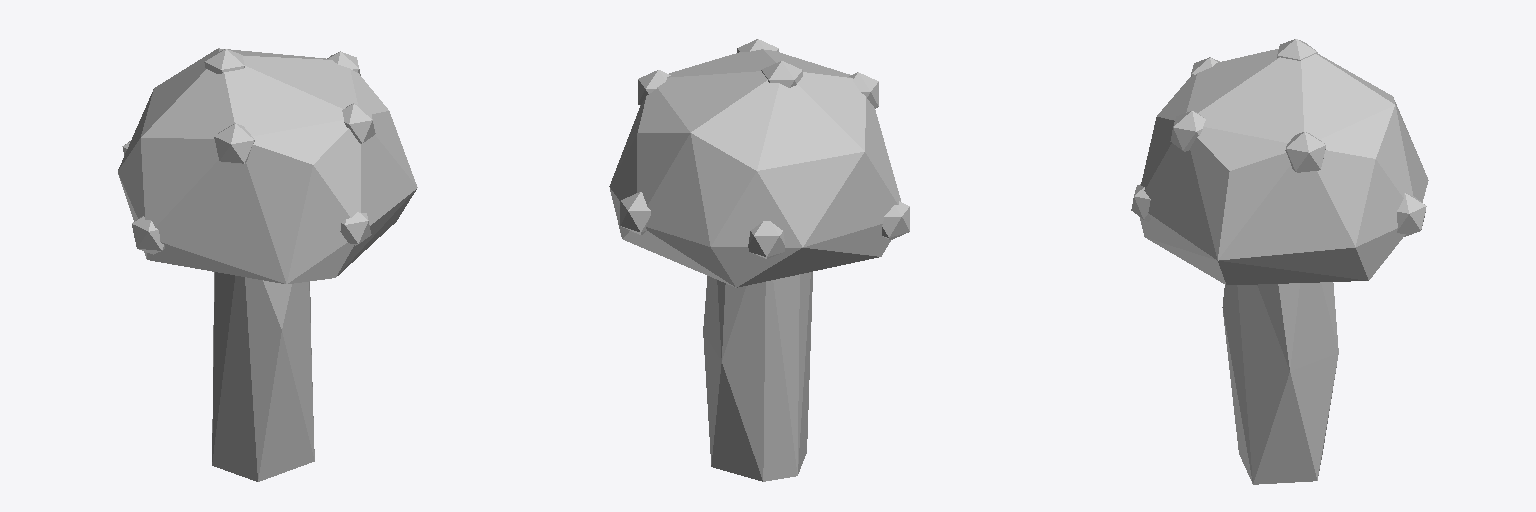
File: plant_04.obj
3 renders of one model, left to right at view 1: azimuth 30°, elevation 25°; view 2: azimuth 150°, elevation 25°; view 3: azimuth 270°, elevation 25°, orthographic.
Parts seen in each view (by area): view 1: Mushroom_01; view 2: Mushroom_01; view 3: Mushroom_01.
Boxes of the visible parts, <box> form: Mushroom_01: <box>118,48,417,481</box>; Mushroom_01: <box>609,39,909,481</box>; Mushroom_01: <box>1131,39,1428,484</box>.
Size of the model in its own units: 0.2252 by 0.3407 by 0.2222.